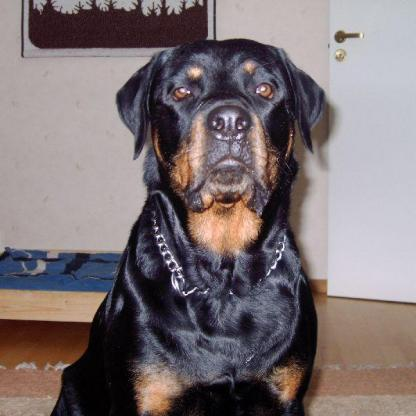Rottweiler: (46, 35, 326, 414)
